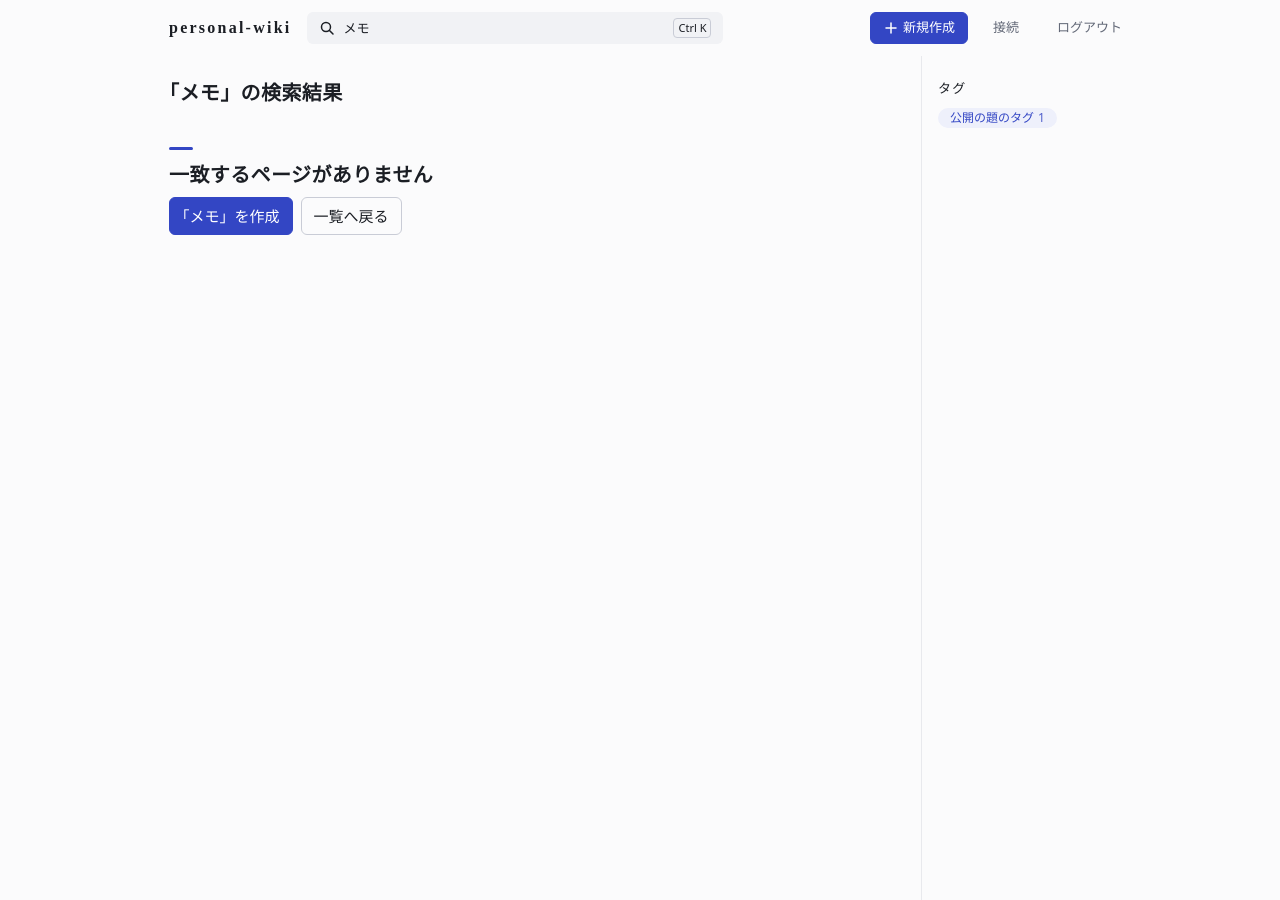
App の owner の画面 › 検索結果の画面では、ボタンに検索語を出し、押すと語を入れて全選択した窓が開く。語の欄は窓の 1 つだけ
The width and height of the screenshot is (1280, 900).
Expected: the text with class "header-search-text" reads "メモ", [344,19,370,37]
Click the button with class "header-search" at [692, 28], box [308,12,724,44]
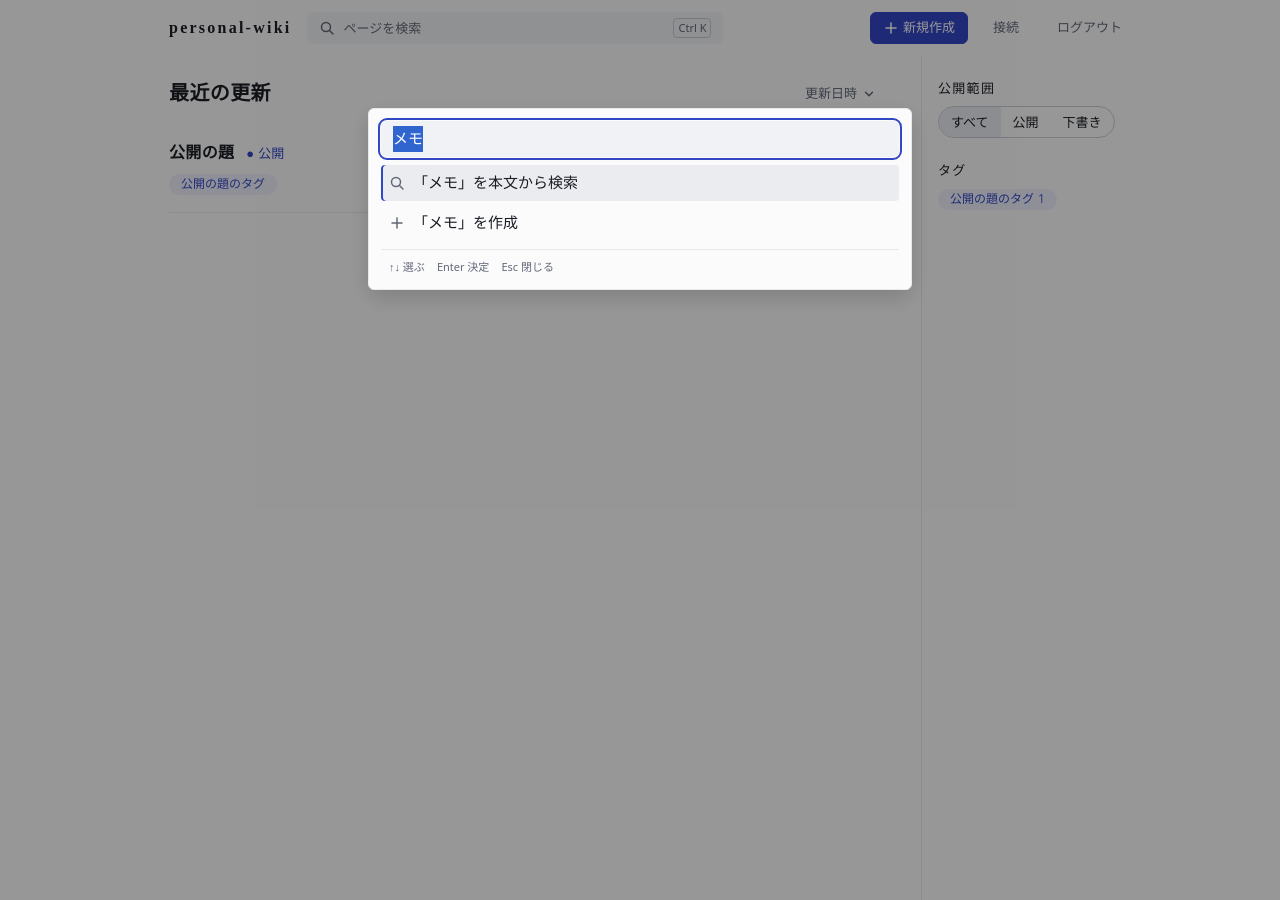
Expected: the dropdown named "検索語" holds "メモ", [381,121,899,157]
Expected: the text with class "header-search-text" reads "ページを検索", [344,19,421,37]
